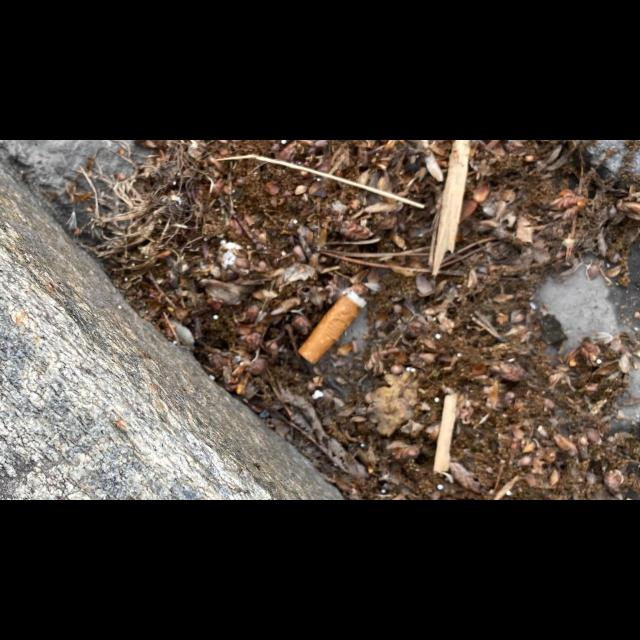cigarette: (296, 289, 366, 365)
